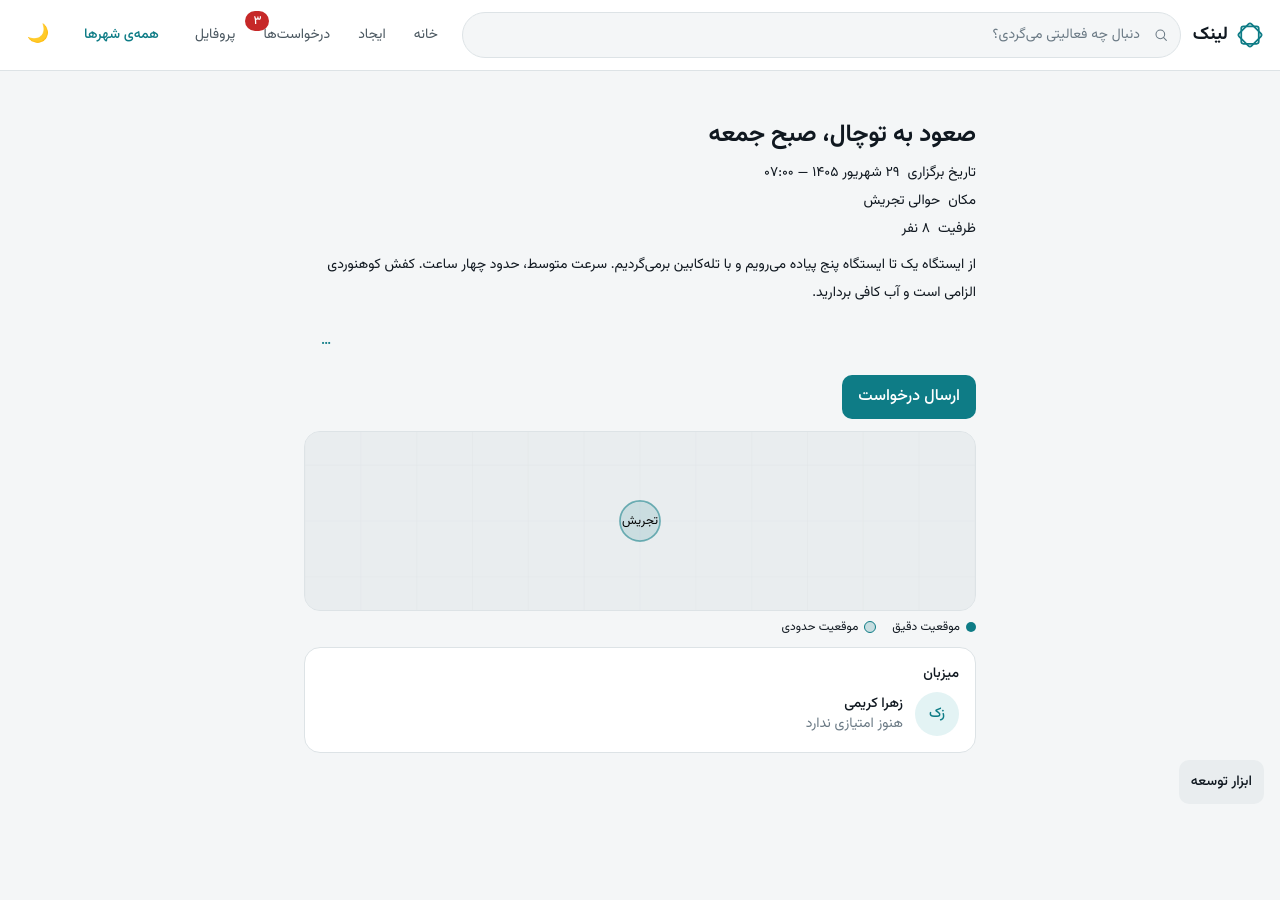
it: ⚠️ US-72 — blocking through the UI › the confirmation states it is not notified and does not recall contact details
The width and height of the screenshot is (1280, 900).
Click the button with test id "safety-menu": click(326, 341) [304, 319, 348, 363]
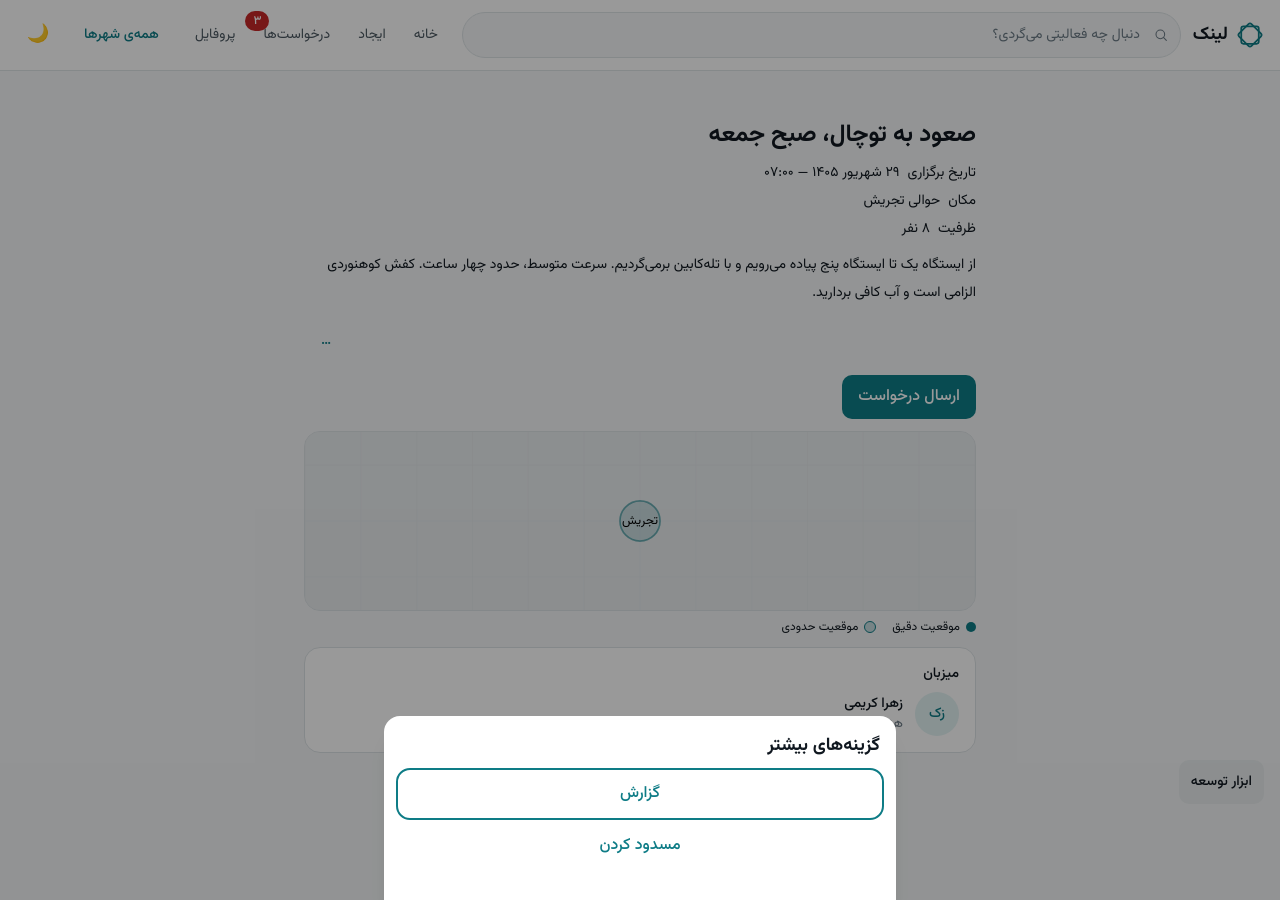
Click the button with test id "safety-menu-block": click(640, 846) [400, 824, 880, 868]
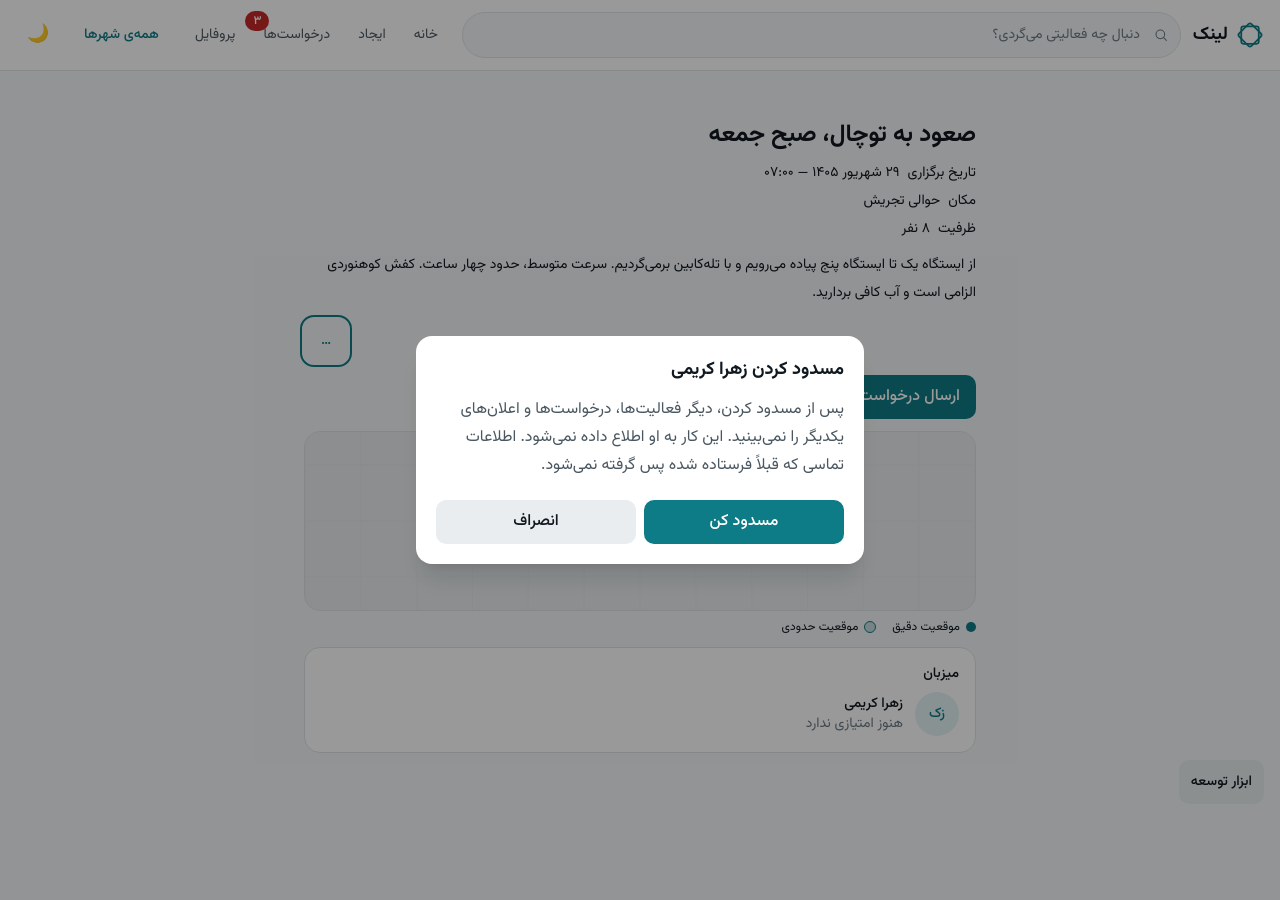
Result: the element with test id "block-dialog" shows "اطلاع داده نمی‌شود" at [460, 397, 844, 478]
Result: the element with test id "block-dialog" shows "پس گرفته نمی‌شود" at [460, 397, 844, 478]
